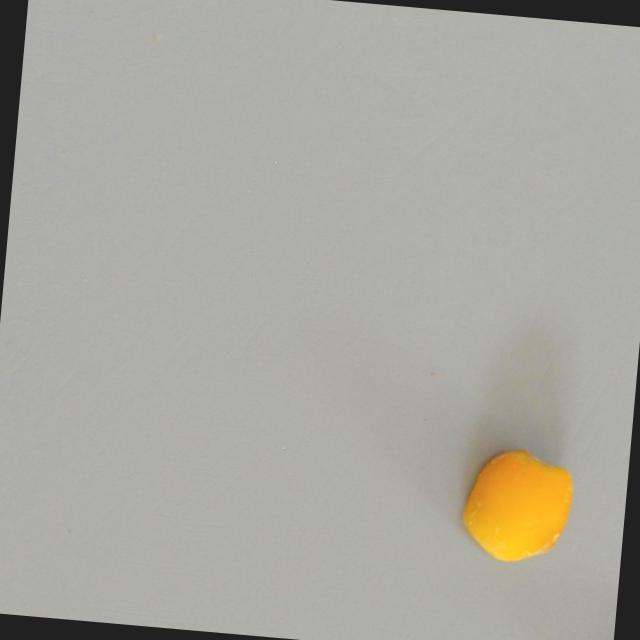pelicula: (454, 442, 577, 567)
